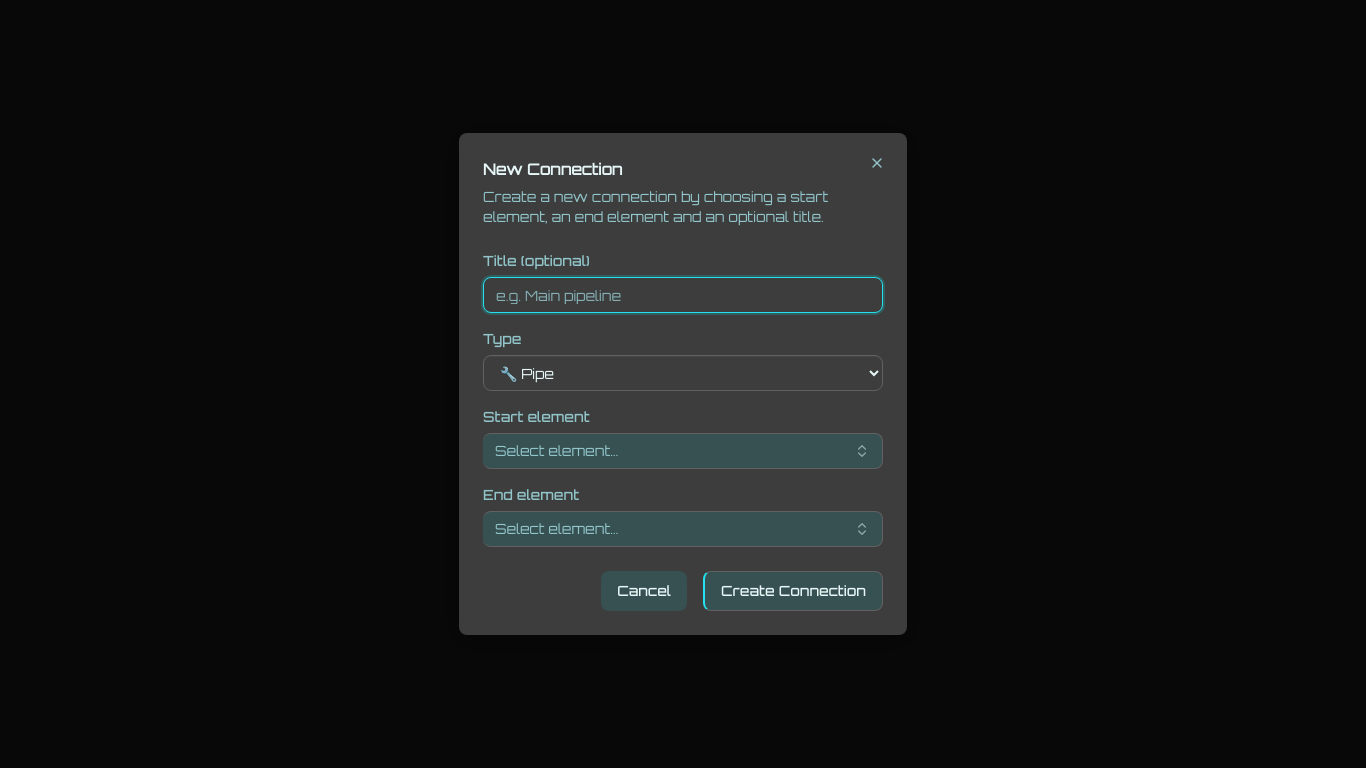
Scenario: CreateConnectionDialog › landmark search filters the list
This screenshot has width=1366, height=768.
Click the 1st dropdown labelled "Select element…" at (557, 450), box [483,433,883,469]
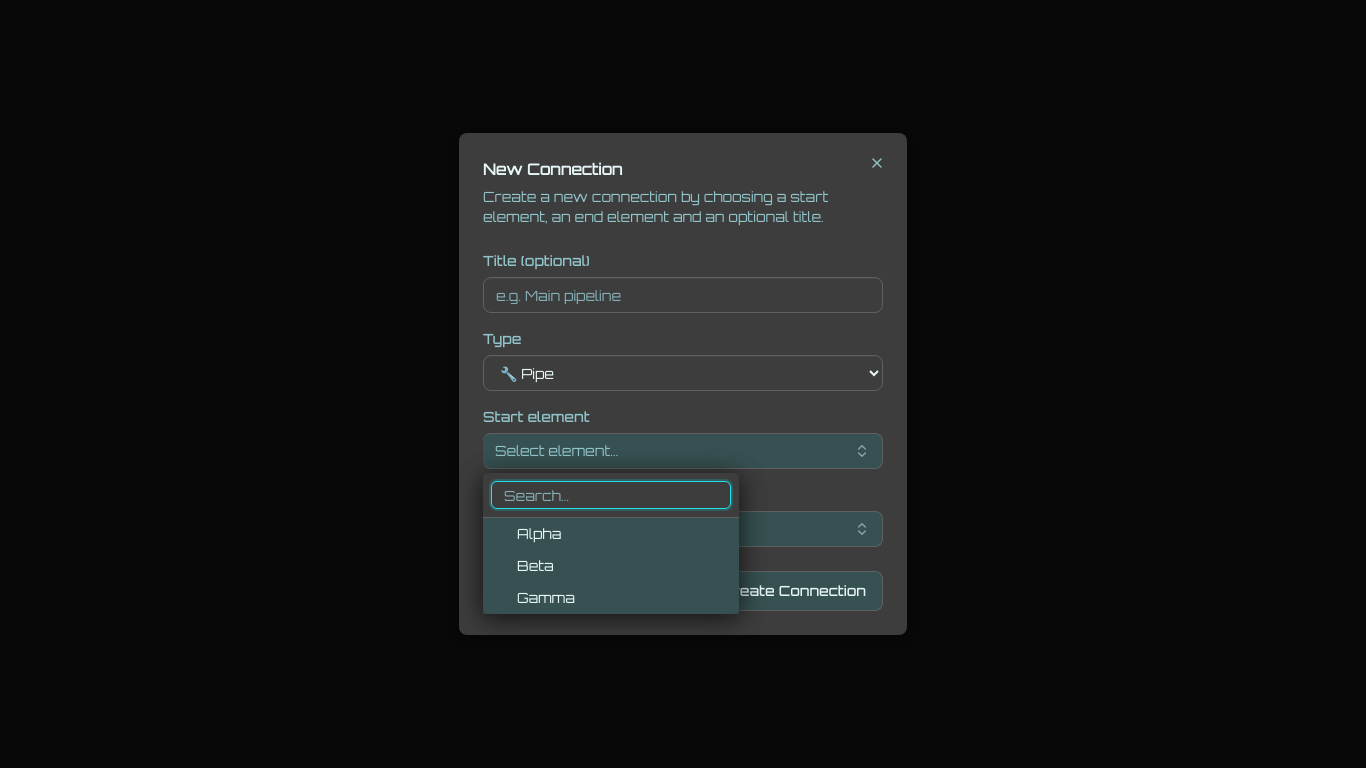
Expected: the button "Alpha" is shown, [483,518,739,550]
Expected: the button "Beta" is shown, [483,550,739,582]
Type "gam" into the field with placeholder "Search…" at (611, 495), box [491,481,731,509]
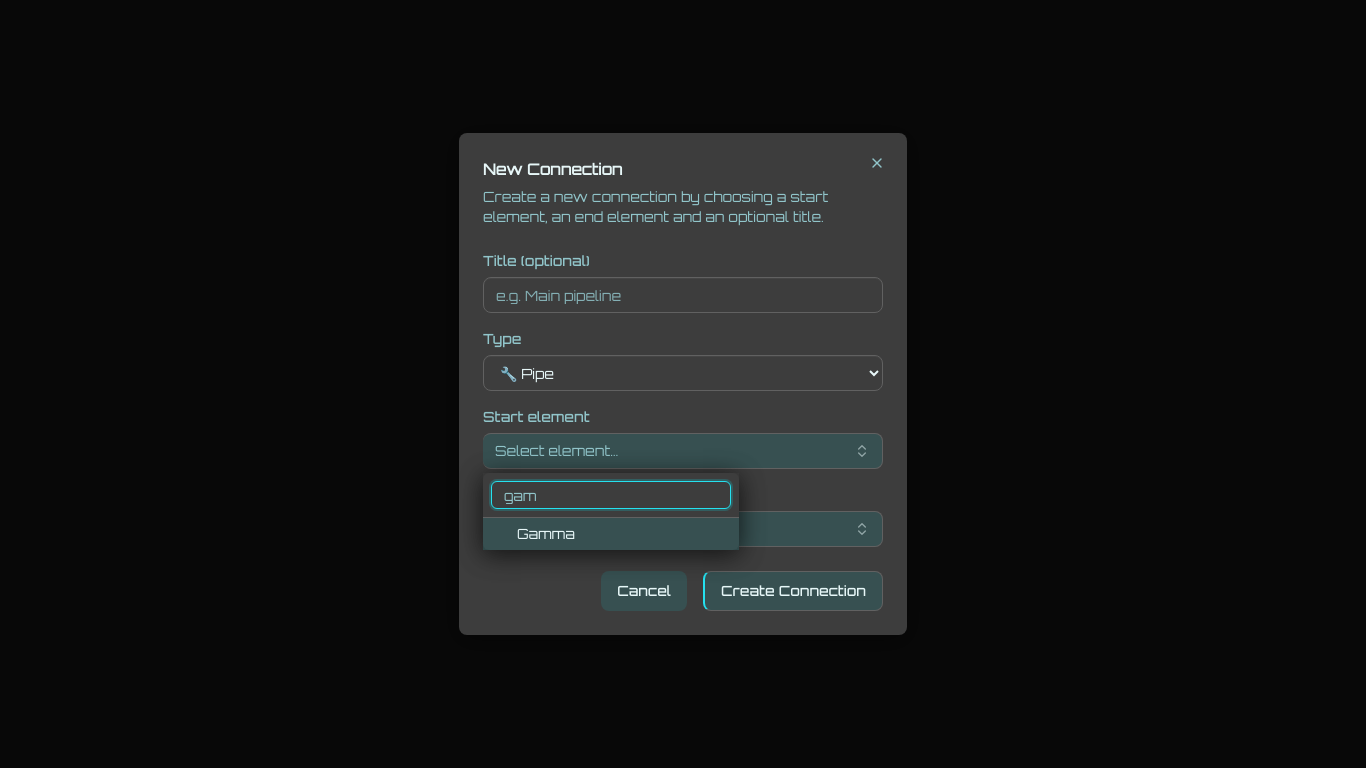
Expected: the button "Gamma" is shown, [483,518,739,550]
Expected: the button "Alpha" is gone
